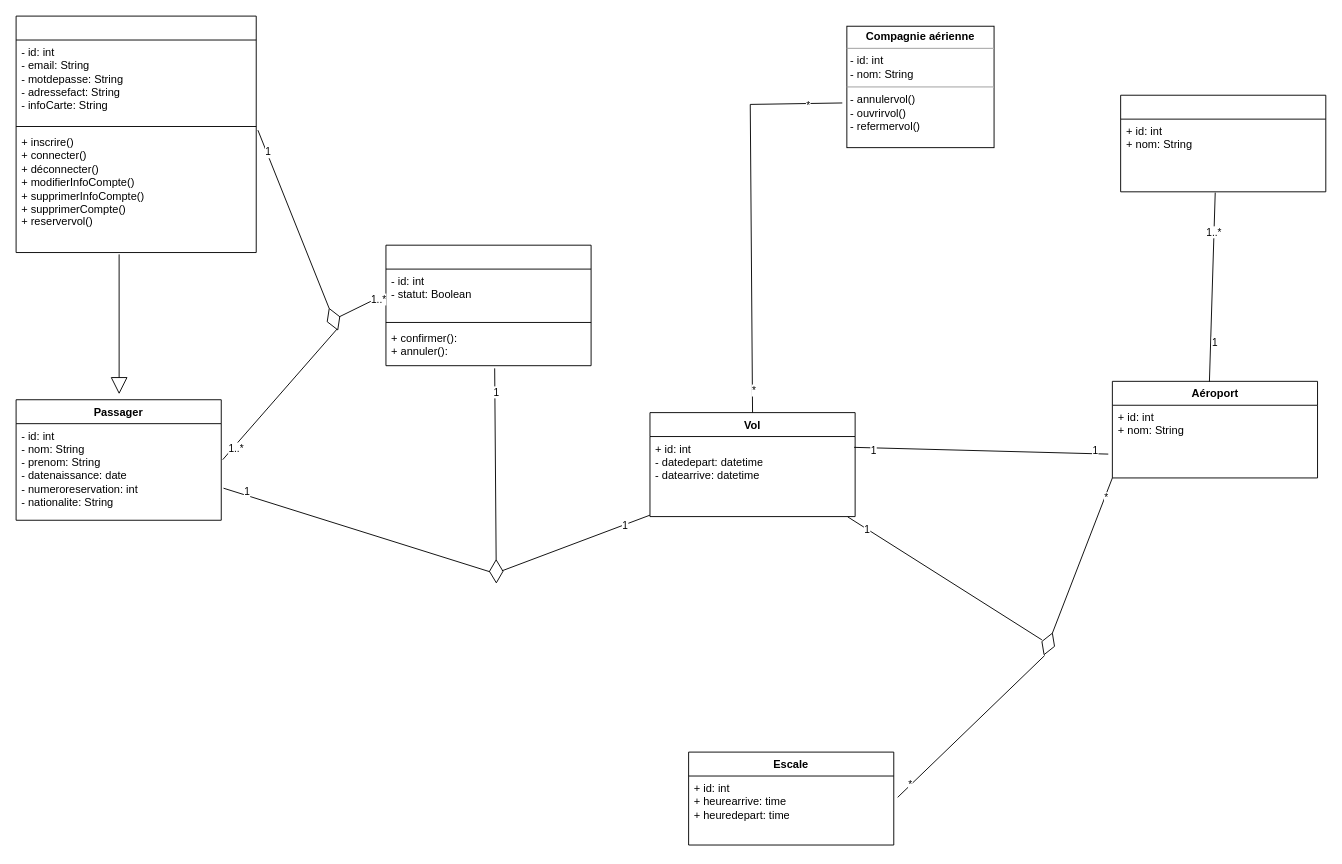
Some shapes in this 1342 by 864 pixel diagram are drawn without their labels. Each missing label, with the box of its shape:
Reservation: (385, 244, 591, 366)
Utilisateur: (15, 15, 256, 253)
Ville: (1120, 94, 1326, 192)
